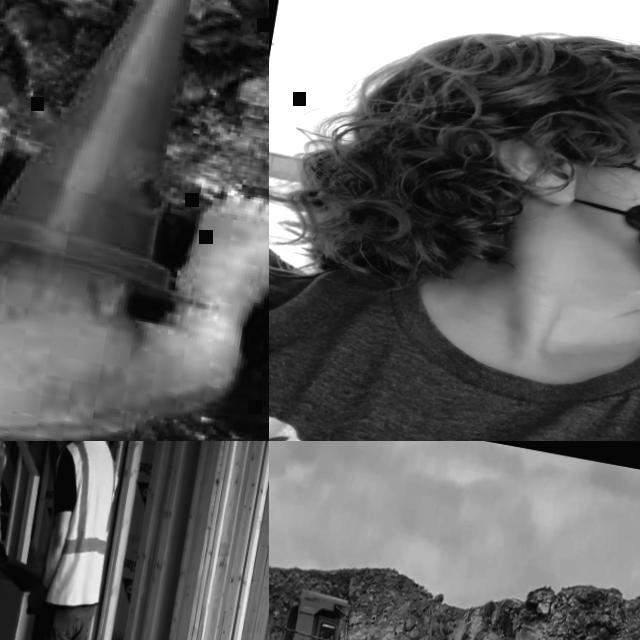machinery: (269, 533, 609, 640)
mask: (530, 138, 640, 324)
no_helmet: (393, 0, 640, 151)
no_vest: (269, 243, 640, 441)
person: (269, 0, 640, 441), (0, 441, 157, 640), (314, 634, 324, 640)
safety_cone: (0, 0, 265, 313)
vest: (32, 441, 128, 611)
